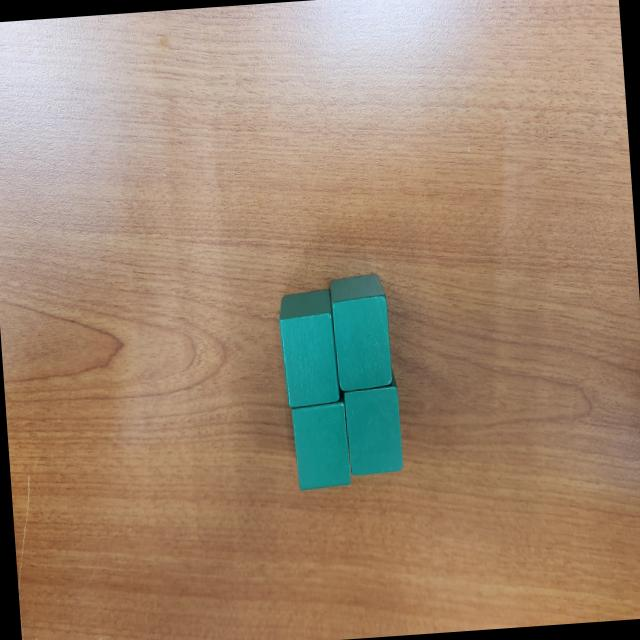green: (274, 286, 342, 406), (328, 274, 393, 395), (340, 382, 407, 478), (287, 400, 353, 493)
